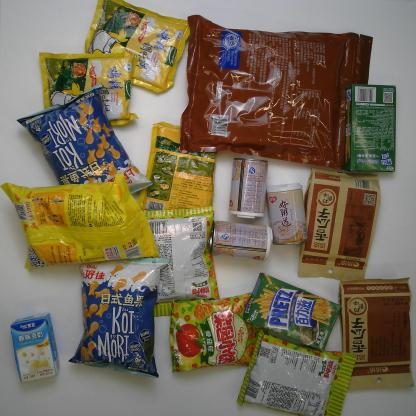Canned Food: (225, 153, 270, 220), (265, 182, 308, 247), (209, 216, 272, 260)
Dessert: (242, 273, 339, 355), (345, 80, 396, 175)
Dried Food: (182, 14, 374, 173), (297, 165, 381, 282), (336, 274, 413, 390)
Milk: (9, 313, 59, 388)
Puffed Food: (16, 83, 153, 206), (5, 177, 162, 266), (70, 257, 168, 384), (237, 329, 356, 416), (137, 204, 220, 318), (166, 294, 254, 374)
Seasoner: (84, 2, 195, 90), (139, 119, 221, 224), (38, 48, 141, 129)
